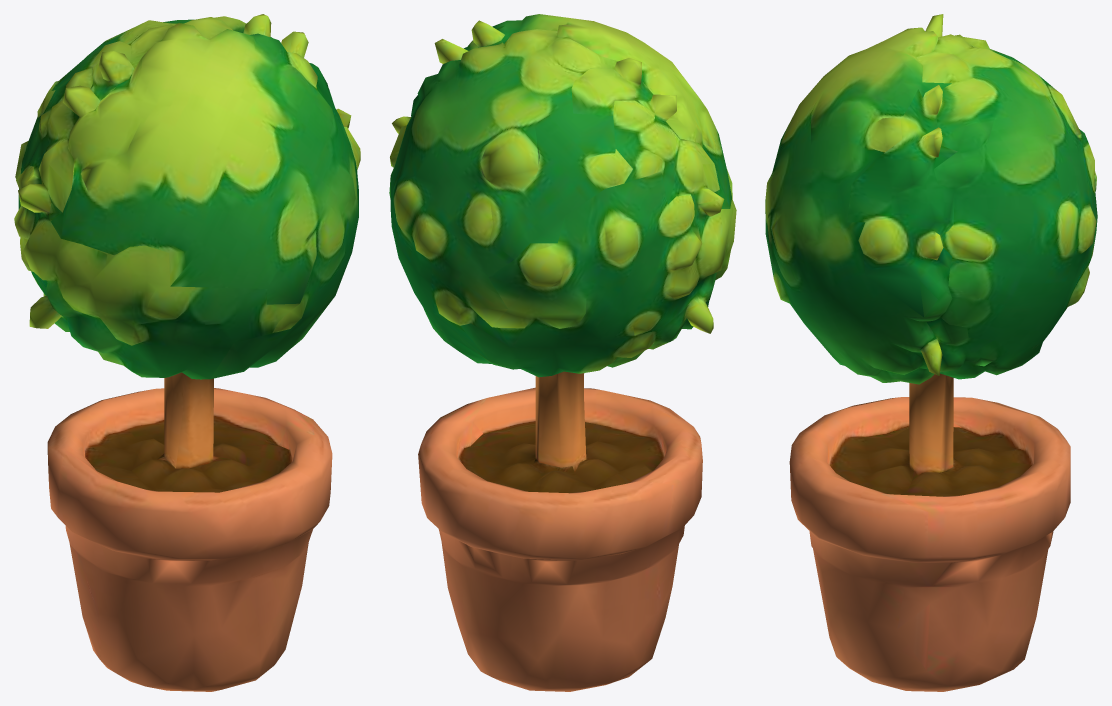
The model's file is topiary.glb.
3 views of the same model, side by side, from view 1: azimuth 30°, elevation 25°; view 2: azimuth 150°, elevation 25°; view 3: azimuth 270°, elevation 25° (orthographic). The views are drawn at different scales.
Parts seen in each view (by area): view 1: model; view 2: model; view 3: model.
Boxes of the visible parts, x1,y1,x2,y2 form: model: (14, 14, 360, 691); model: (389, 14, 736, 691); model: (765, 14, 1097, 691).
Bounding box in the file's own units: 1.02 × 1.89 × 0.9167.
Materials: 1 (1 with a texture image).
